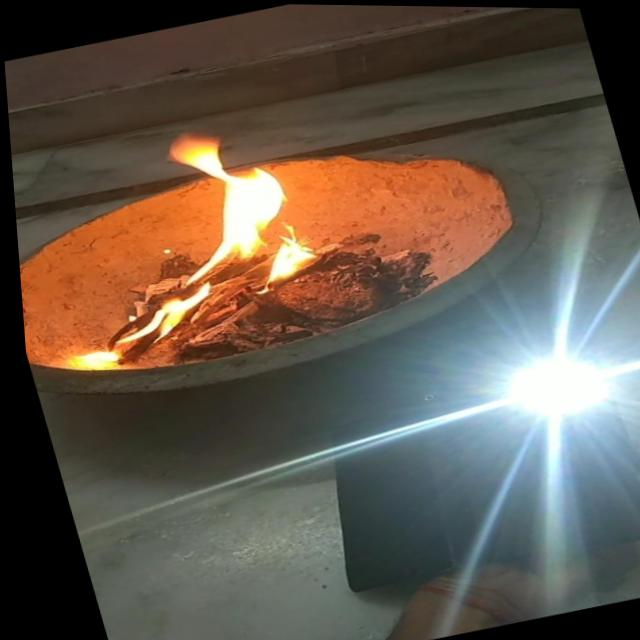fire: (19, 108, 349, 373)
